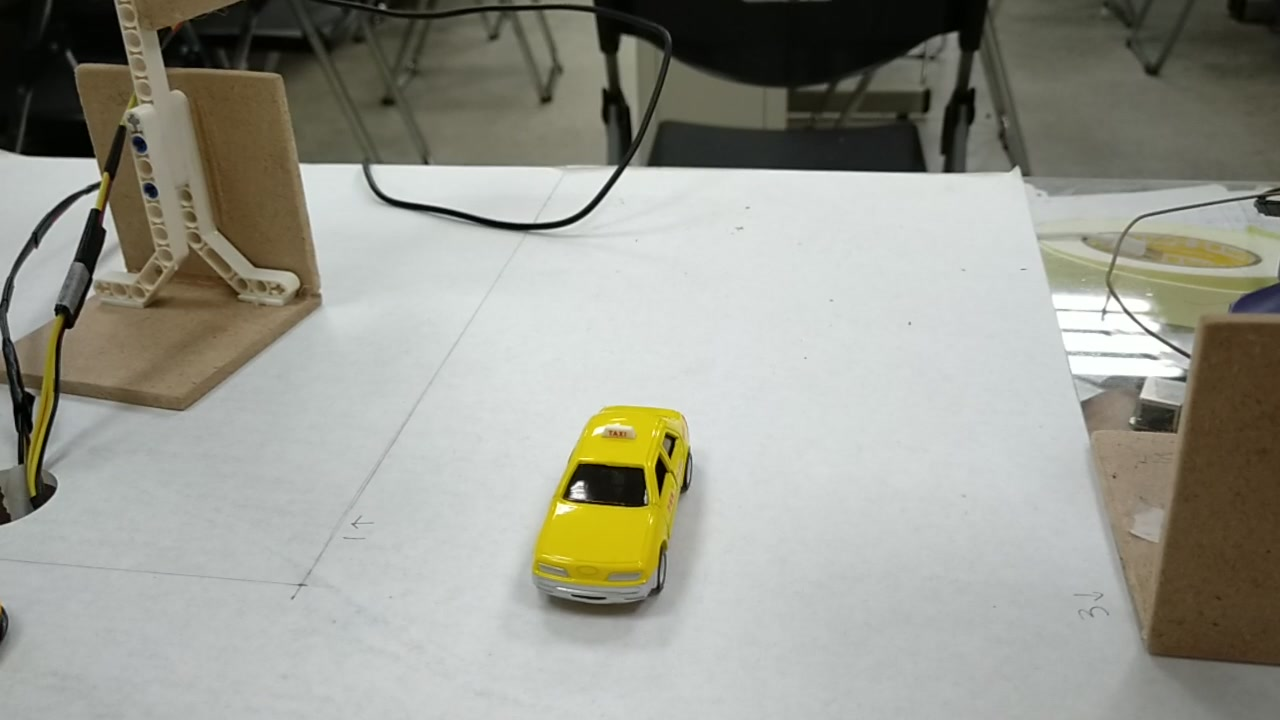car: (526, 407, 692, 601)
